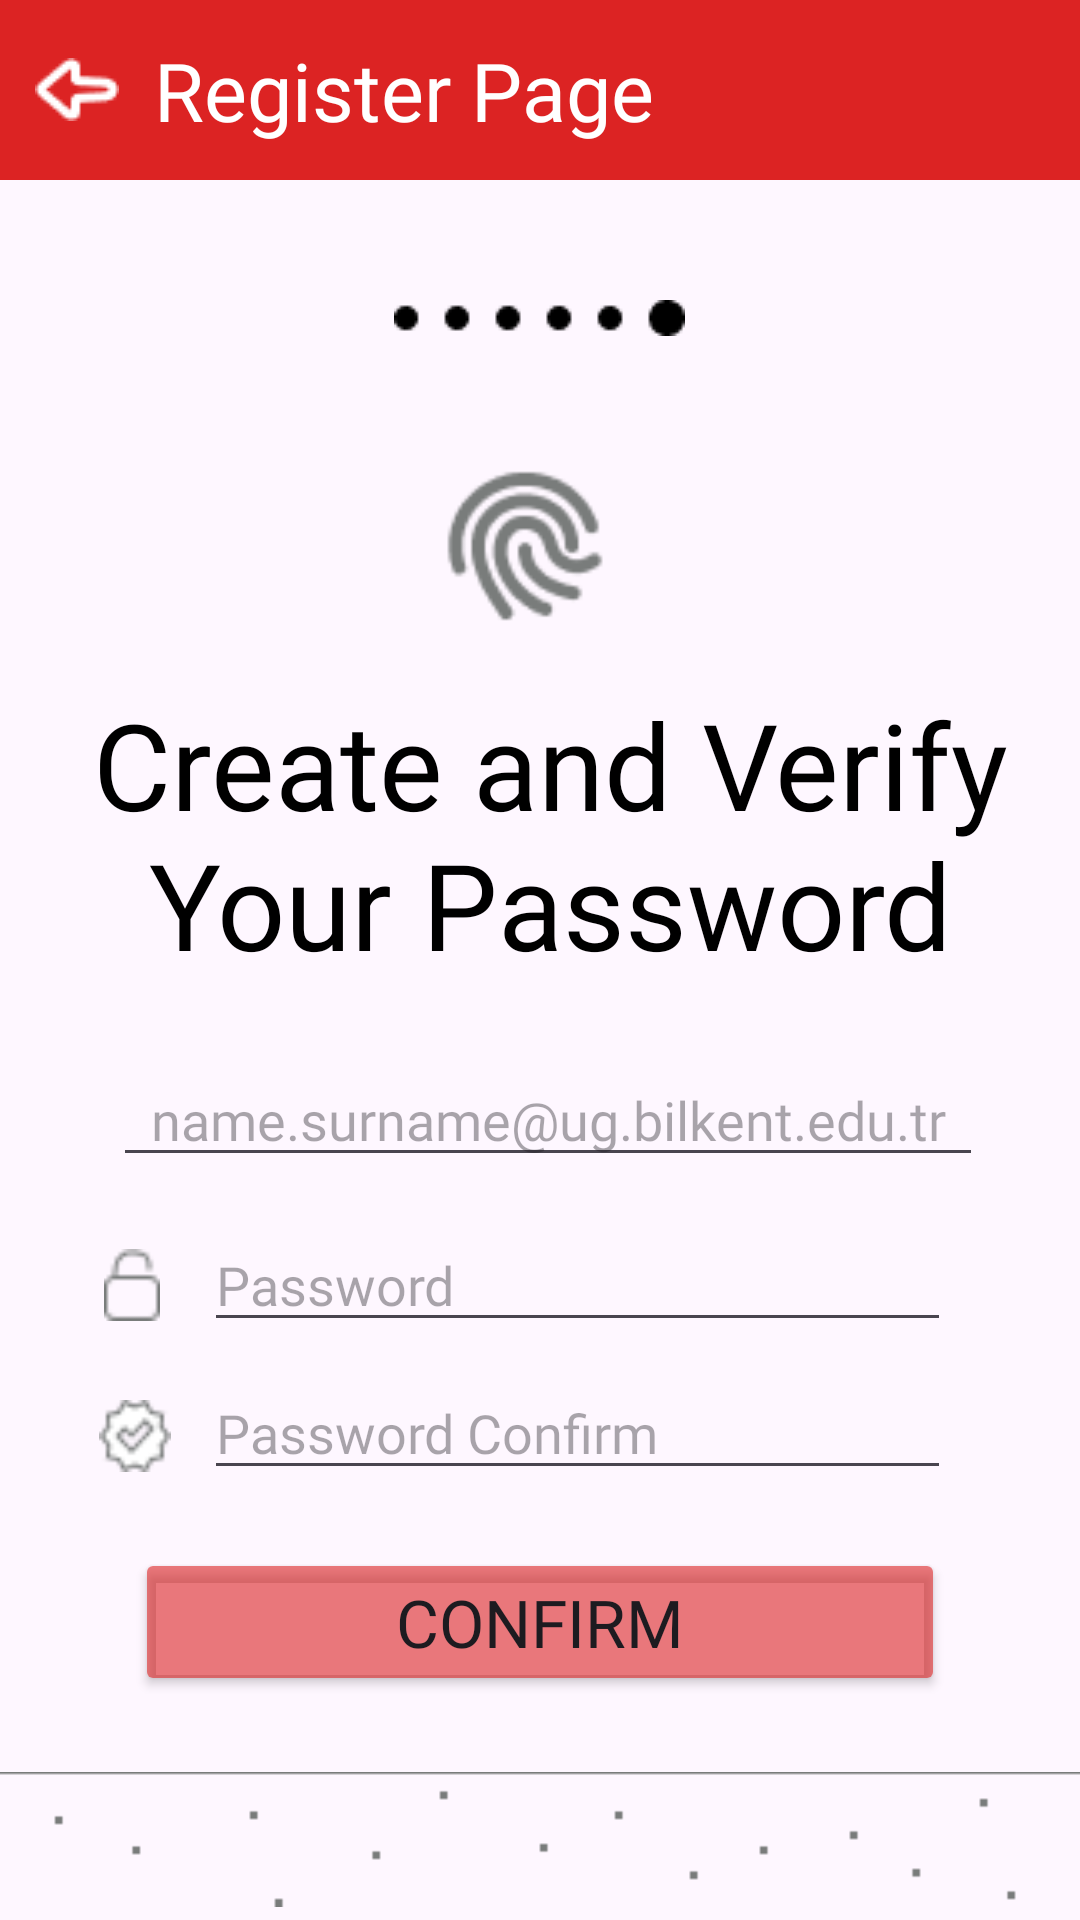

Screen size 1080w x 1920h. Icon name, then its center in pixels as (x=x, y=y):
fingerprint: (x=524, y=546)
padlock: (x=132, y=1285)
tick: (x=135, y=1436)
